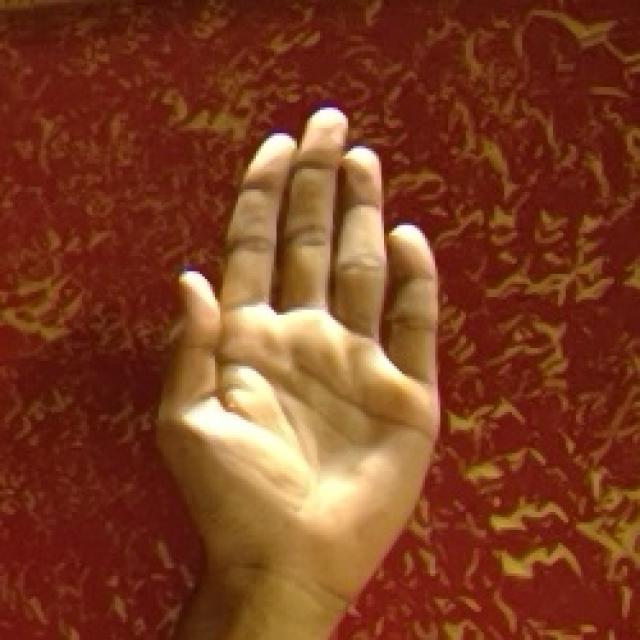Numeric-5: (155, 106, 445, 613)
